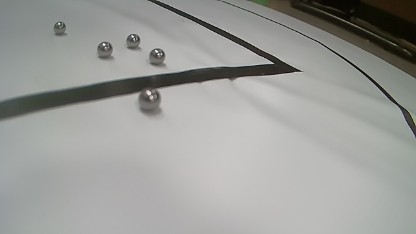ironball: (139, 87, 161, 111), (149, 48, 165, 65), (97, 41, 113, 57), (126, 33, 140, 48), (53, 21, 65, 34)
